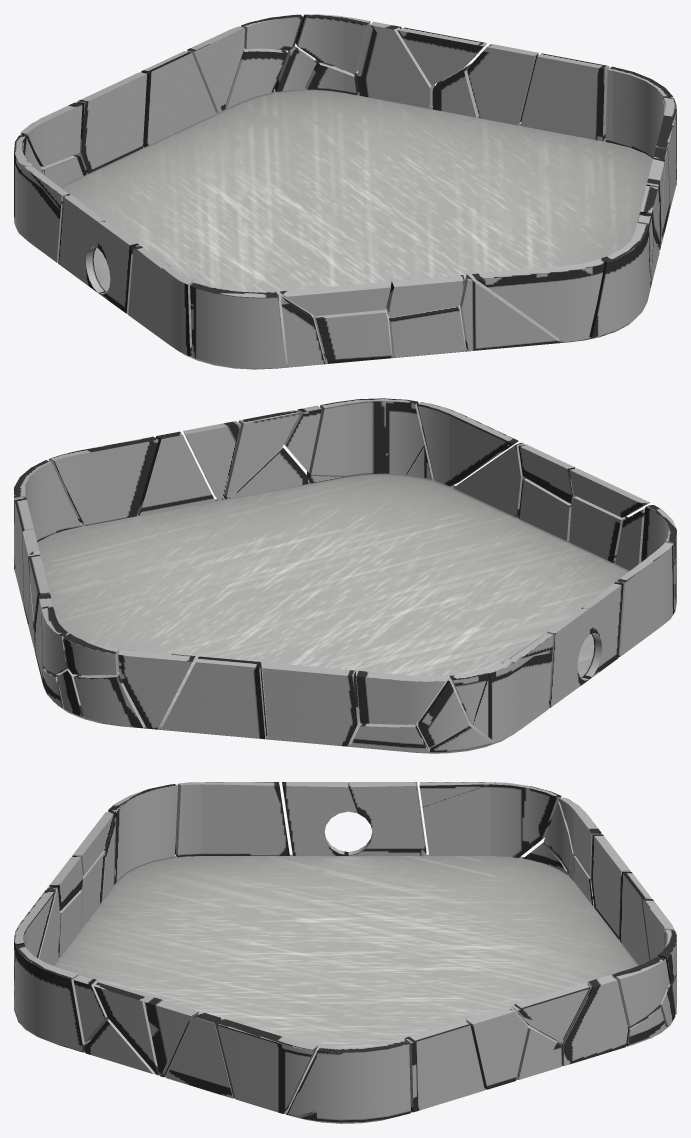
3 views of the same model, one above another, from view 1: azimuth 30°, elevation 25°; view 2: azimuth 150°, elevation 25°; view 3: azimuth 270°, elevation 25° (orthographic).
Visible parts, largest first — view 1: L1R1_Walls, L1R1_floor; view 2: L1R1_Walls, L1R1_floor; view 3: L1R1_Walls, L1R1_floor.
Boxes of the visible parts, x1,y1,x2,y2 form: L1R1_Walls: (14, 14, 676, 368); L1R1_floor: (15, 87, 652, 369); L1R1_Walls: (14, 398, 676, 752); L1R1_floor: (37, 473, 675, 753); L1R1_Walls: (14, 782, 676, 1122); L1R1_floor: (18, 854, 674, 1123).
Size of the model in its own units: 5043 by 632 by 5220.
Materials: 2 (2 with a texture image).
